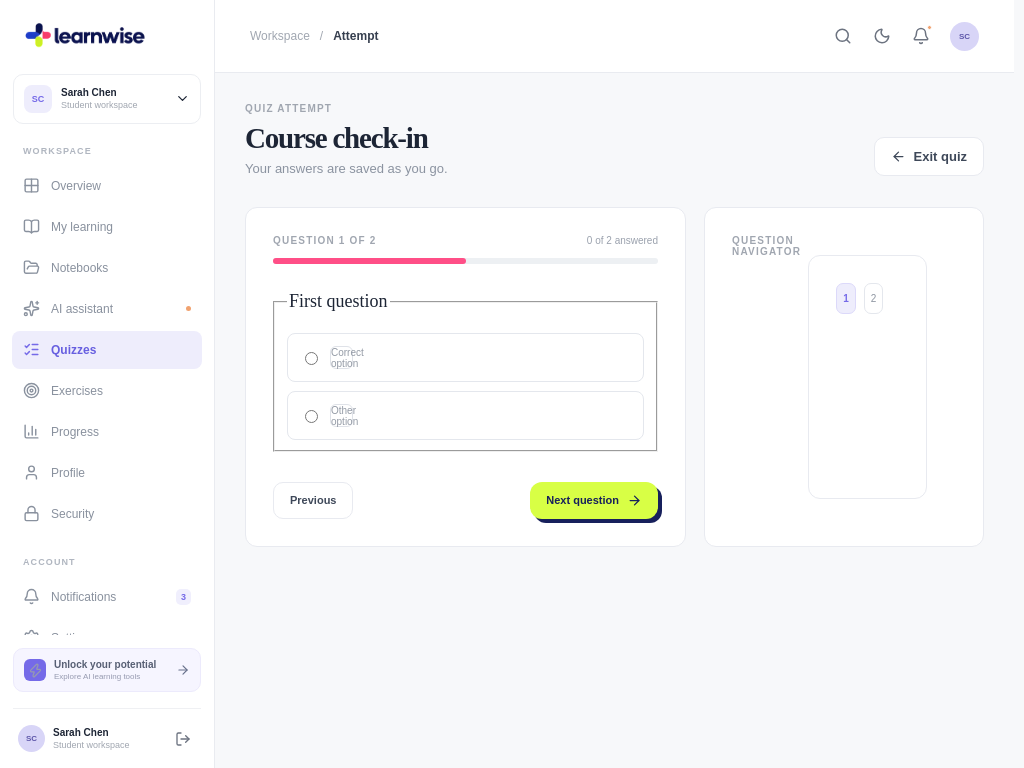
backend assessment attempt › with the real backend answer map (every question present, null when unanswered) › warns about unanswered questions before submitting
Expected: the text "0 of 2 answered" is shown, [587,235,658,246]
Click the button "Next question" at (594, 500), box [530,482,658,519]
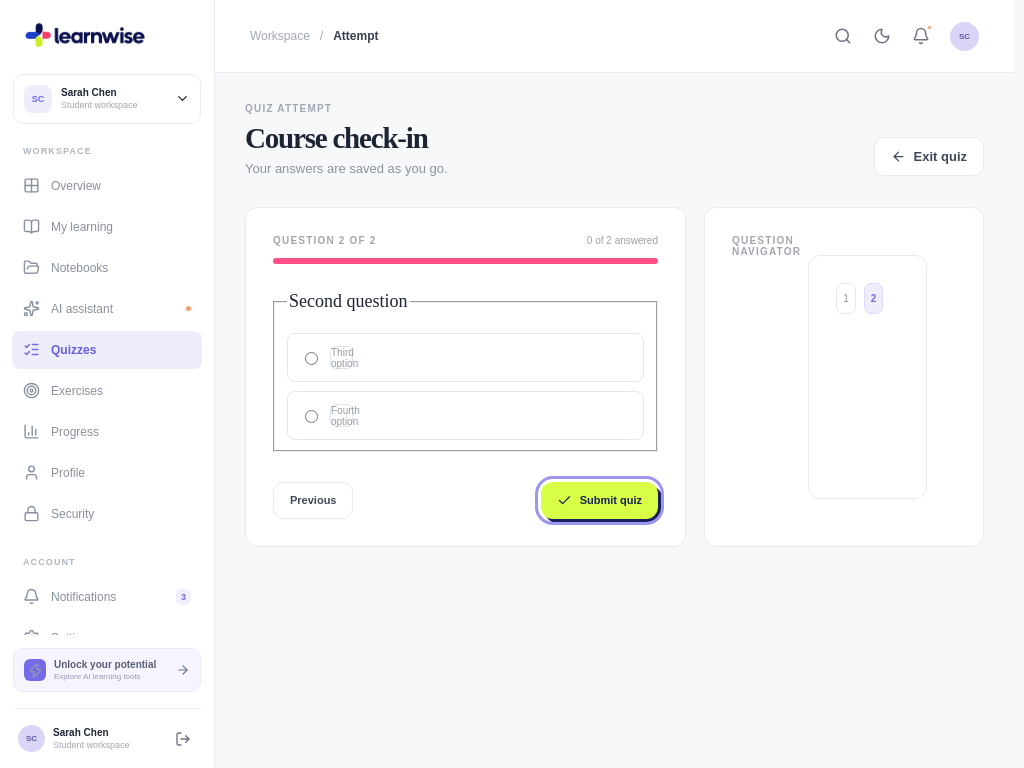
Click the button "Submit quiz" at (599, 500), box [541,482,658,519]
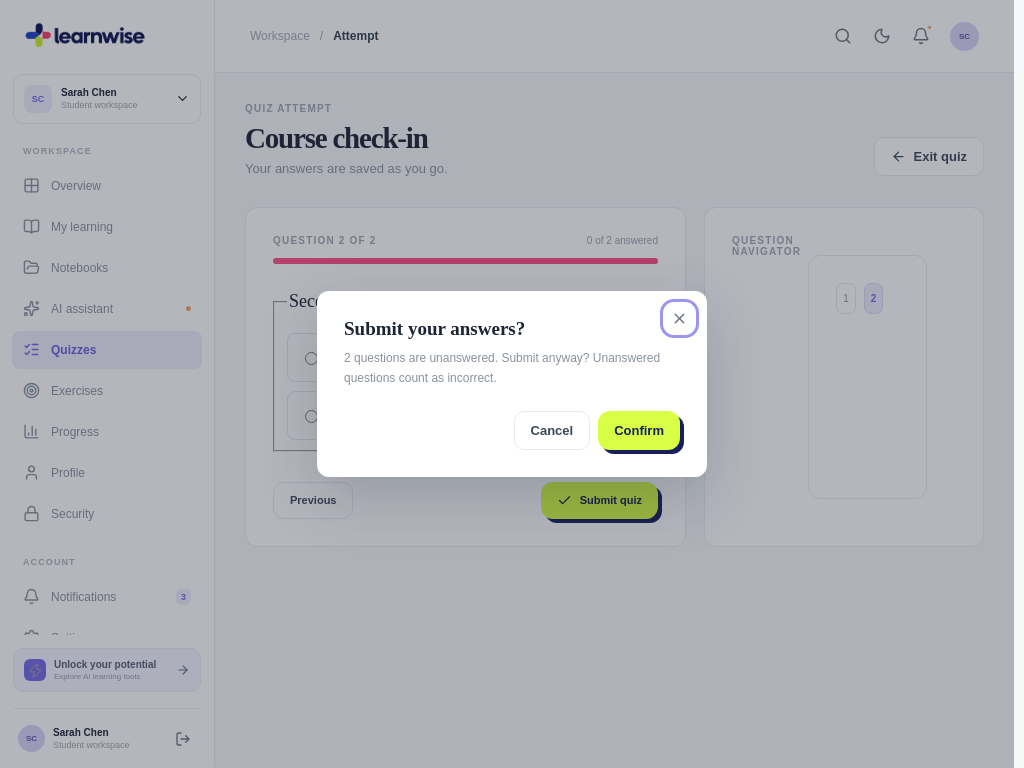
Now the text "2 questions are unanswered" is shown, box [344,351,660,384]
